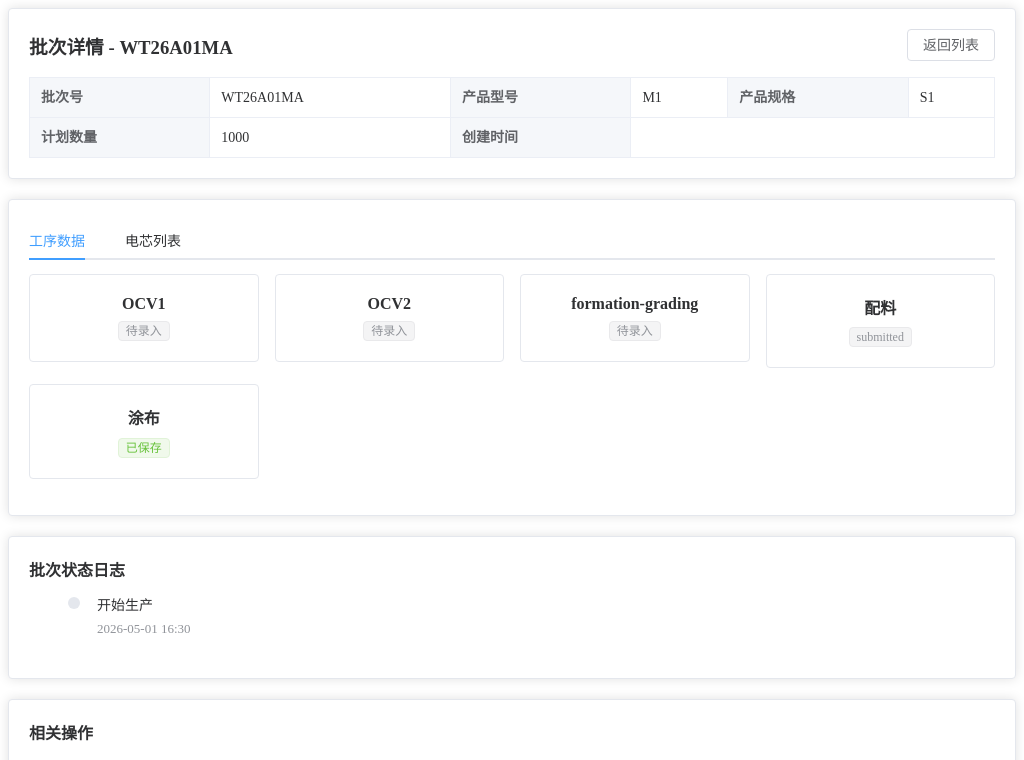
Test: BatchDetailPage › shows OCV1, OCV2, and sorting data together without equipment columns
This screenshot has width=1024, height=760.
Click the tab "电芯列表" at (153, 242), box [125,234,181,249]
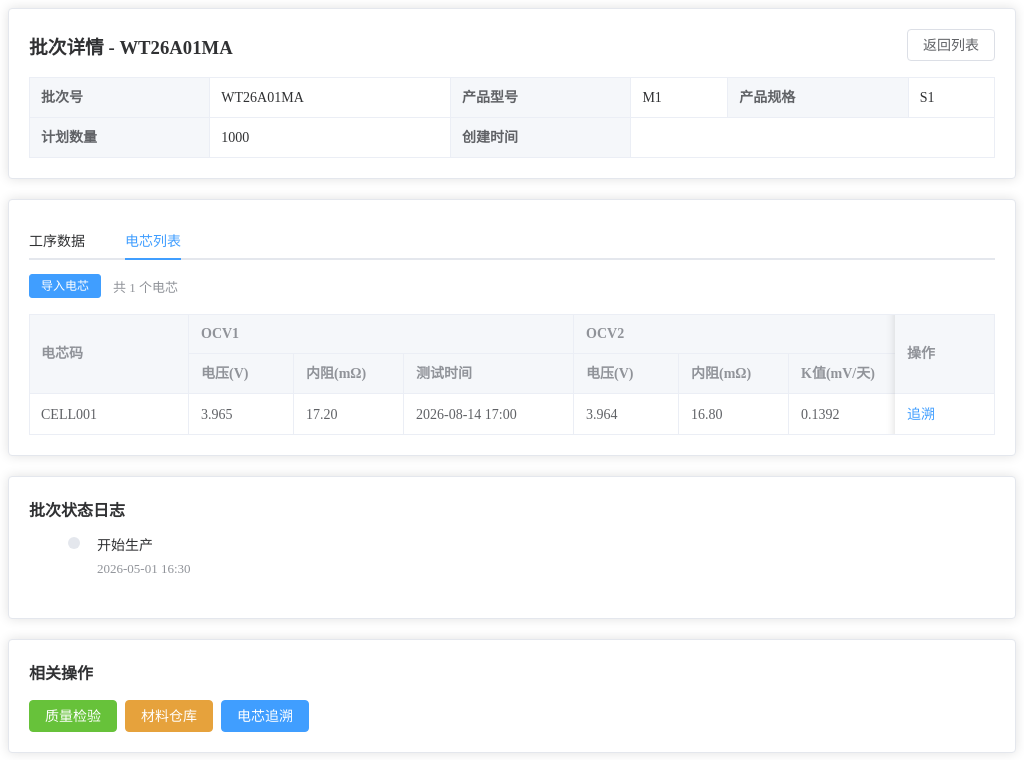
Now the text "电压(V)" is shown, box [201,366,248,381]
Now the text "内阻(mΩ)" is shown, box [306,366,366,381]
Now the text "K值(mV/天)" is shown, box [801,366,875,381]
